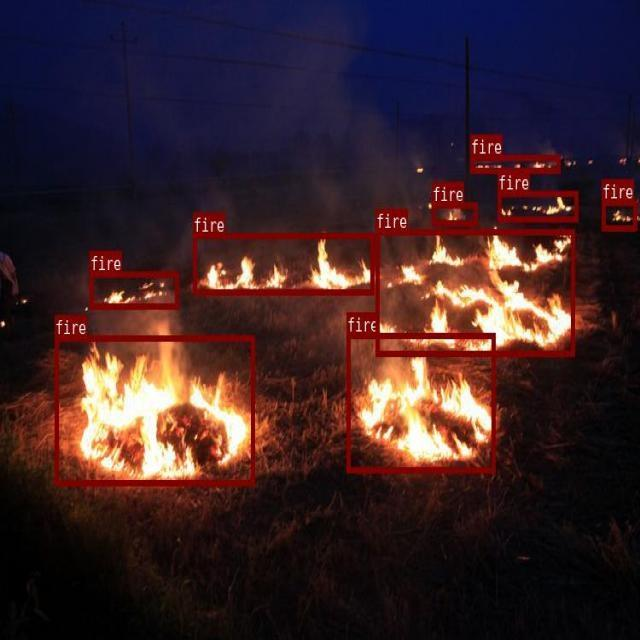fire: (54, 335, 254, 484), (375, 228, 574, 355), (346, 333, 495, 472), (192, 233, 373, 295), (90, 271, 179, 308), (498, 190, 578, 221), (470, 155, 559, 172), (602, 199, 637, 230), (431, 202, 477, 225)
